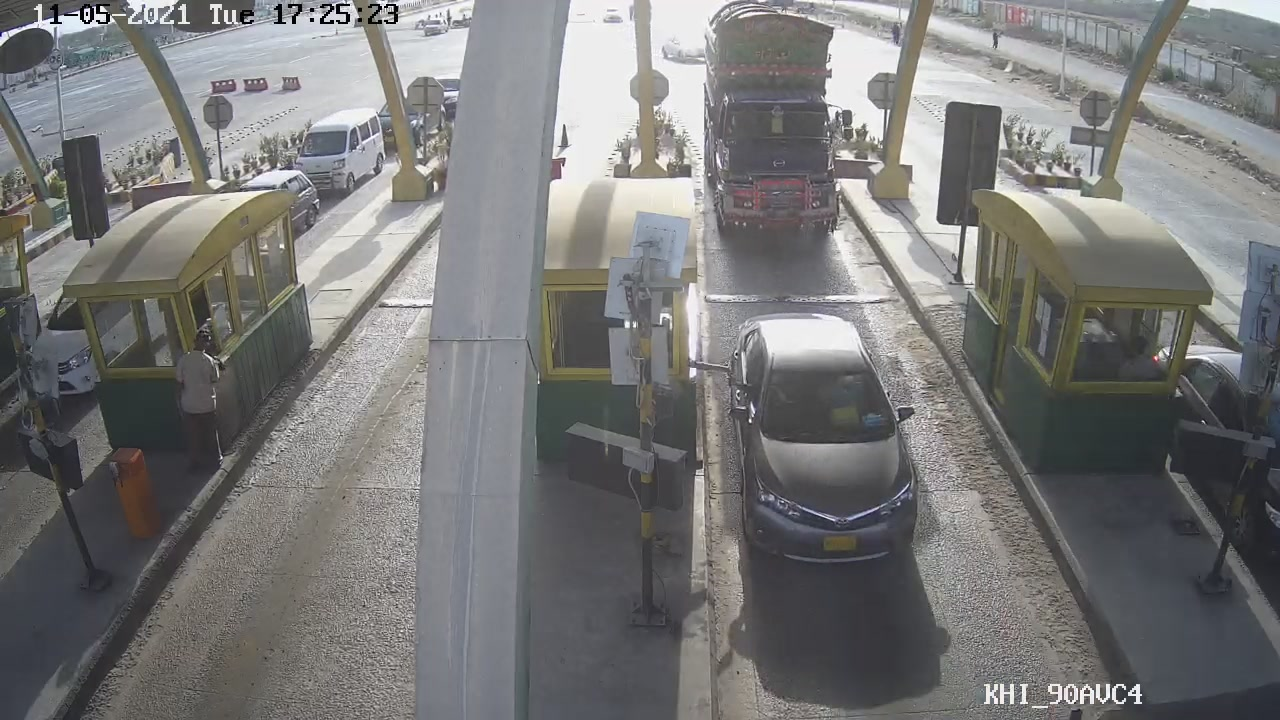F1: (724, 310, 926, 574)
F5: (692, 18, 862, 243)
